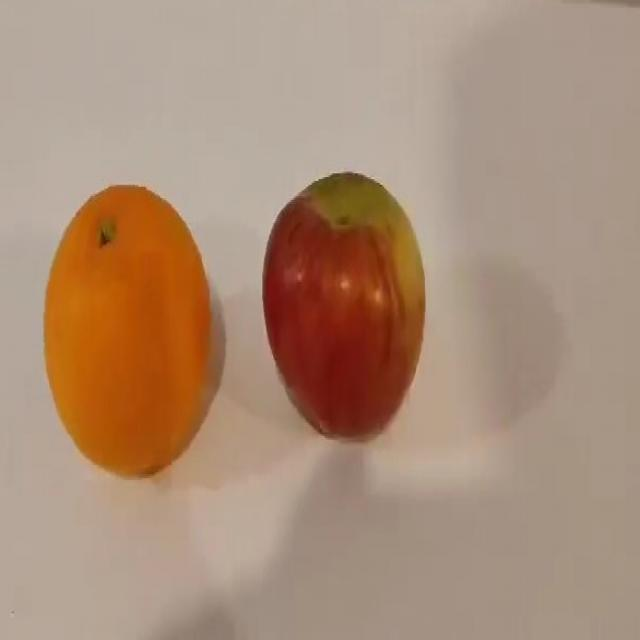Apple: (258, 164, 431, 445)
Orange: (42, 177, 216, 477)
